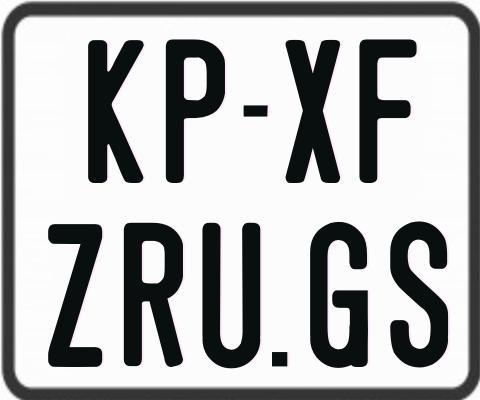F: (357, 36, 417, 183)
G: (308, 222, 372, 372)
K: (88, 37, 144, 180)
P: (163, 37, 226, 186)
R: (122, 221, 184, 365)
S: (389, 219, 449, 366)
U: (201, 221, 265, 371)
X: (285, 37, 344, 181)
Z: (48, 222, 106, 371)
